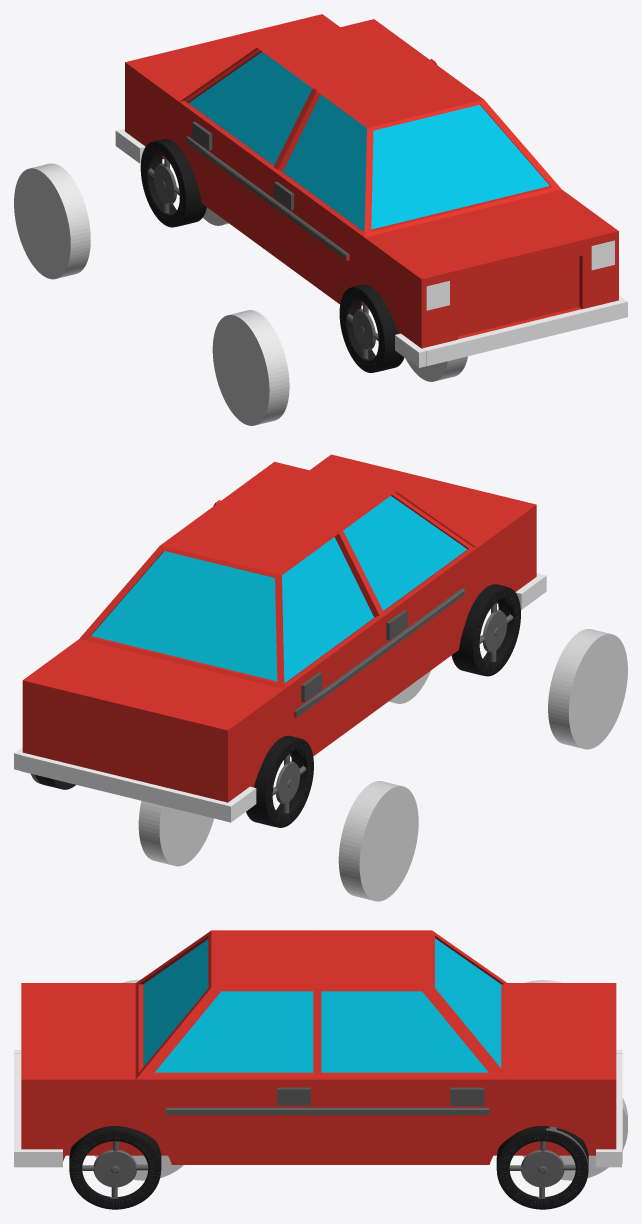
Rendered from location_model.glb.
3 renders of one model, top to bottom at view 1: azimuth 30°, elevation 25°; view 2: azimuth 150°, elevation 25°; view 3: azimuth 270°, elevation 25°, orthographic. The views are drawn at different scales.
Visible parts, largest first — view 1: Cube.007, Cylinder.001, Cylinder, Cylinder.002; view 2: Cube.007, Cylinder, Cylinder.001, Cylinder.003; view 3: Cube.007, Cylinder.003, Cylinder.002.
Part boxes in pixels (x1,y1,x2,y2): Cube.007: [115, 14, 627, 372]; Cylinder.001: [212, 310, 289, 425]; Cylinder: [14, 163, 90, 279]; Cylinder.002: [405, 356, 467, 381]; Cube.007: [14, 454, 546, 827]; Cylinder: [338, 781, 418, 901]; Cylinder.001: [548, 629, 627, 749]; Cylinder.003: [138, 800, 213, 866]; Cube.007: [14, 930, 622, 1209]; Cylinder.003: [522, 1098, 627, 1180]; Cylinder.002: [95, 1155, 183, 1180].
Size of what is drawn, in the model's own units: 4.44 by 2.99 by 7.2.
